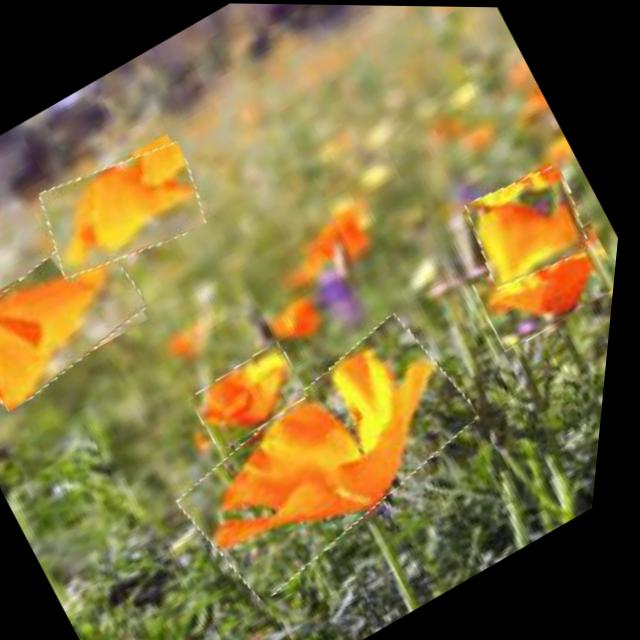Flower: (161, 309, 514, 605), (28, 125, 224, 294), (0, 221, 168, 414), (457, 154, 608, 294), (472, 215, 624, 352), (192, 339, 324, 453)
